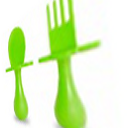fork: (39, 2, 111, 127)
